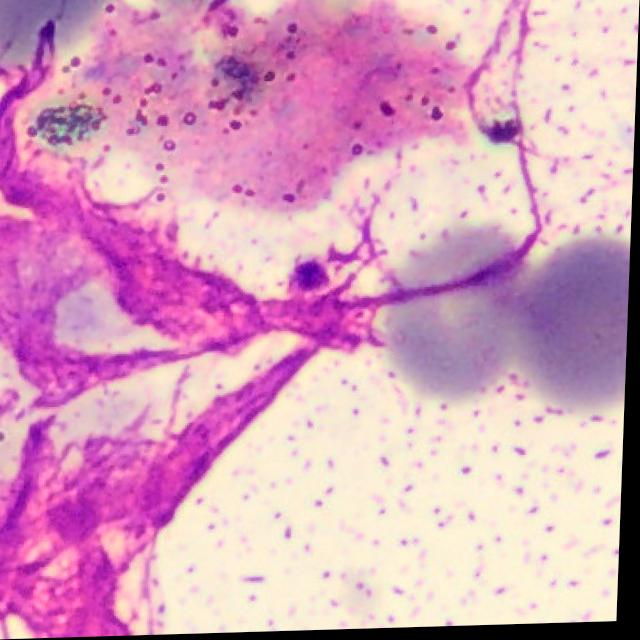Artefato: (0, 0, 542, 639)
